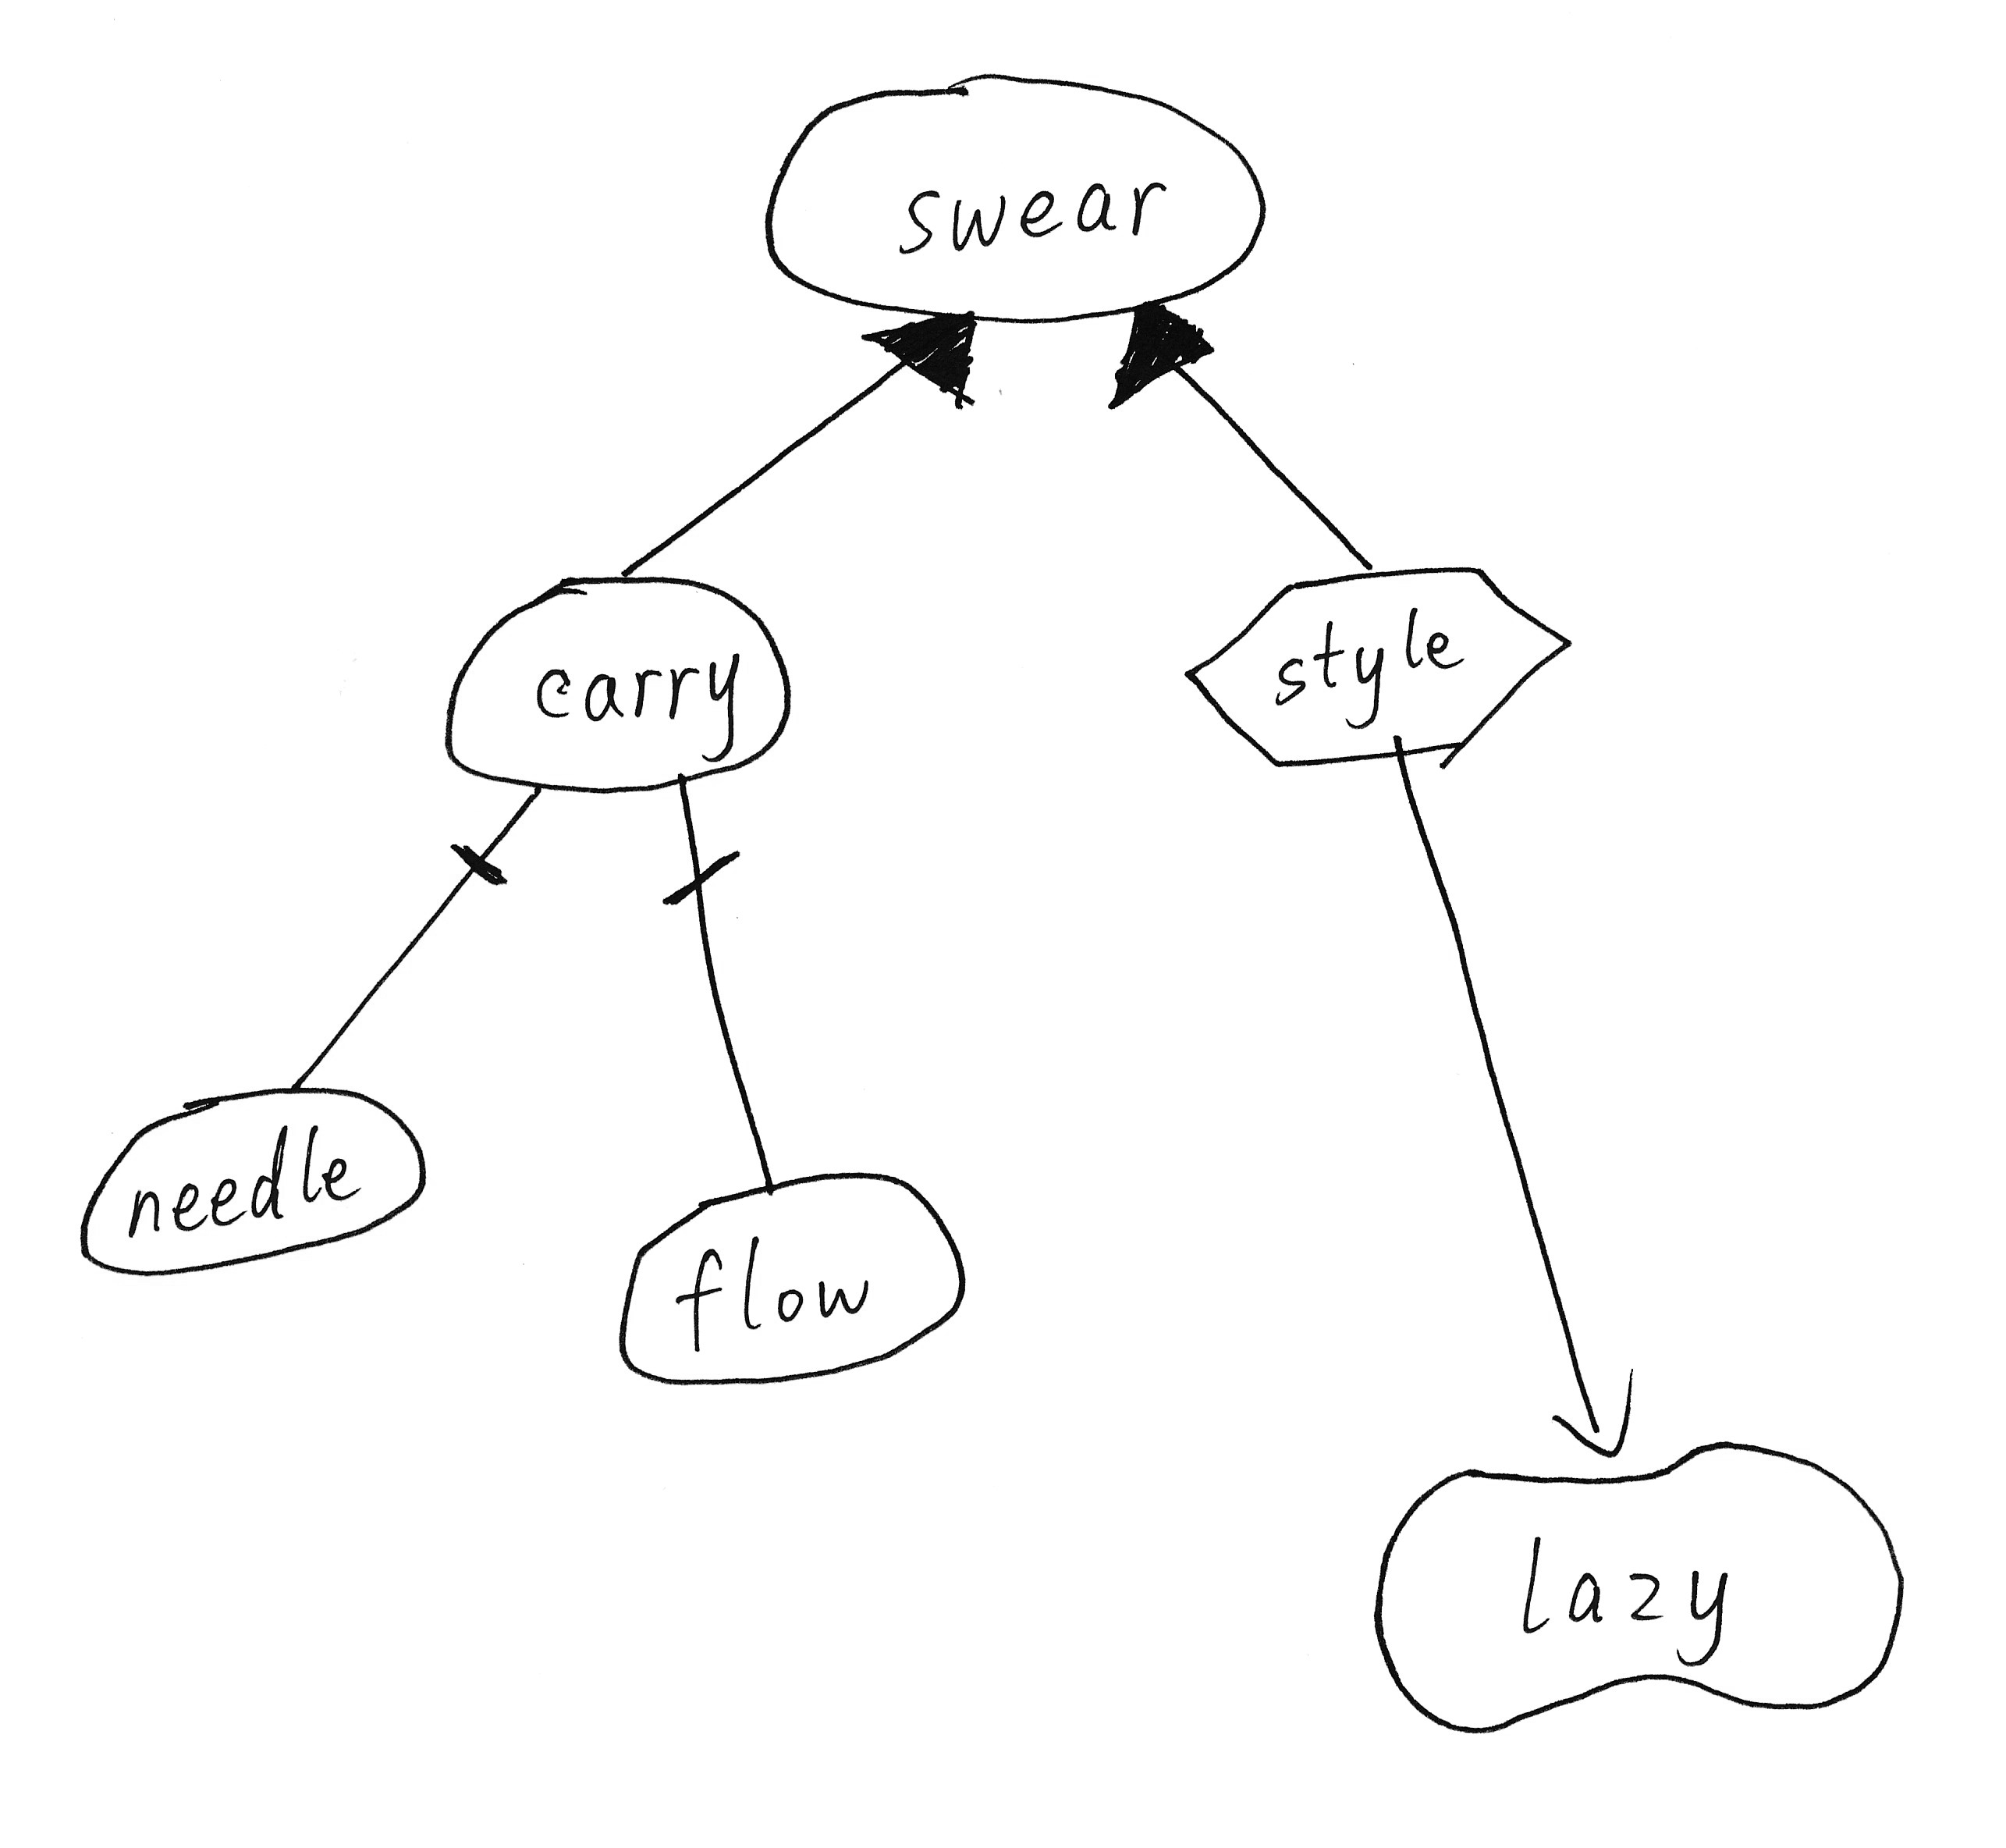and: (647, 764, 751, 930), (437, 768, 554, 909)
arrow: (1539, 1360, 1667, 1474)
goal: (746, 52, 1286, 343), (418, 549, 811, 808), (605, 1156, 989, 1402), (65, 1066, 444, 1289)
or: (847, 290, 1008, 425), (1101, 283, 1228, 432)
quality: (1354, 1416, 1926, 1747)
task: (1167, 547, 1595, 792)
